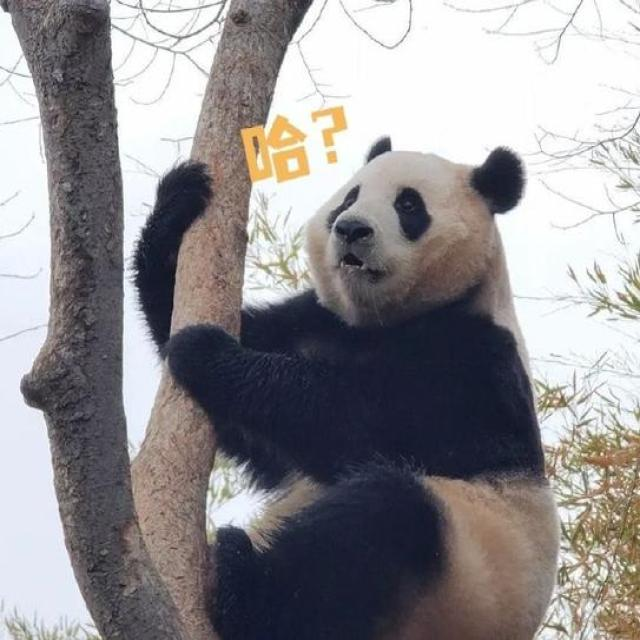panda: (125, 132, 563, 640)
